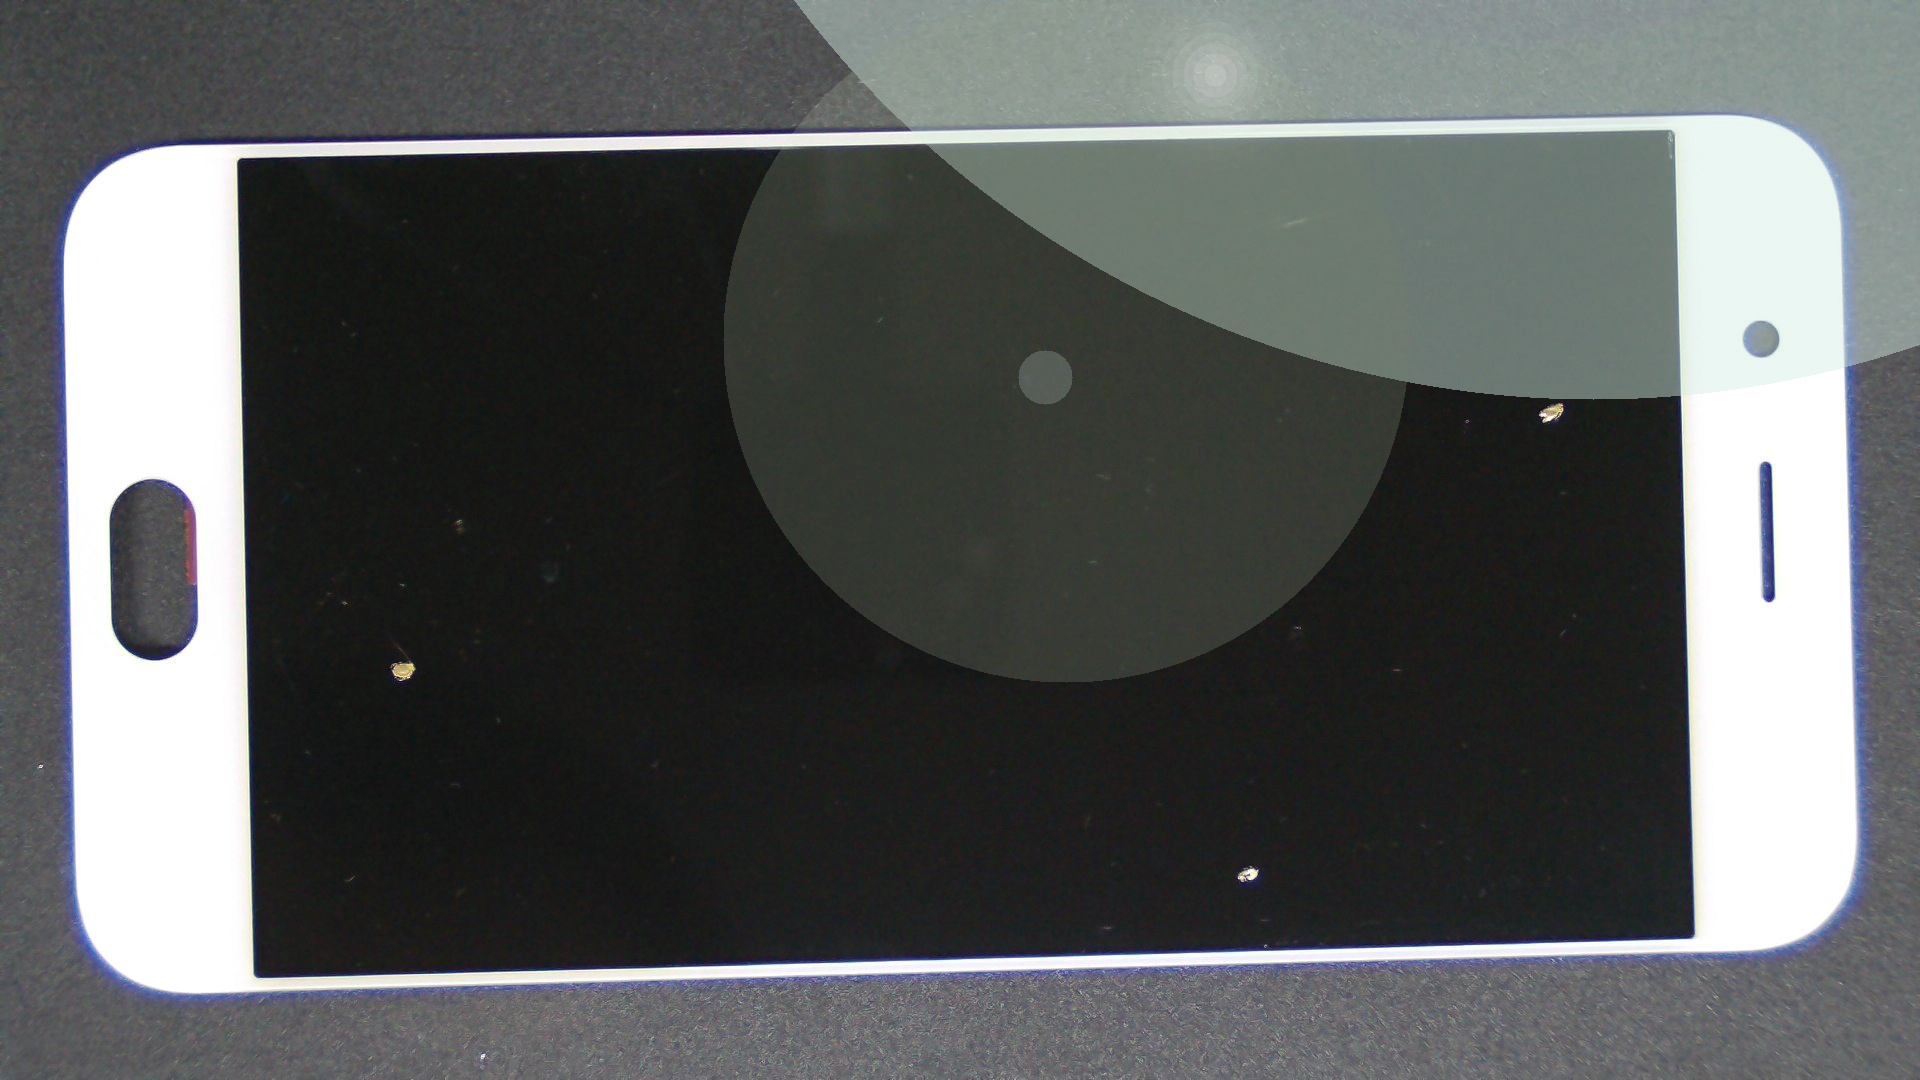oil: (626, 433, 1876, 1080), (782, 200, 1920, 604), (199, 328, 593, 992)
